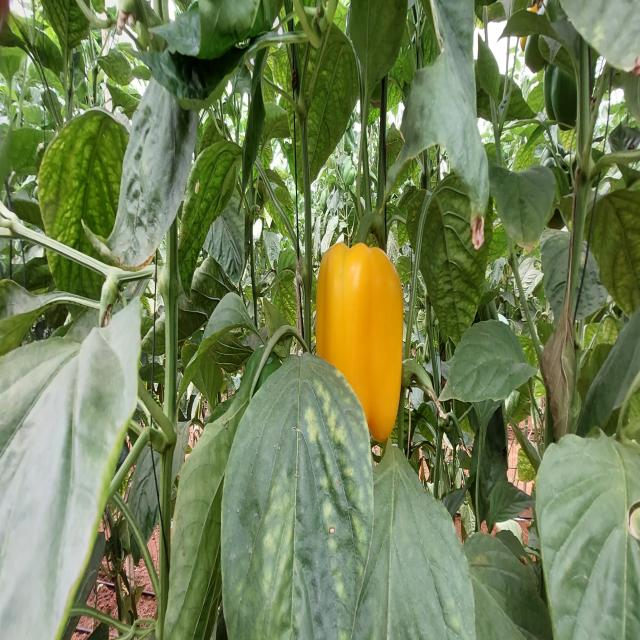Yellow-Ready-to-Harvest: (315, 237, 408, 457)
